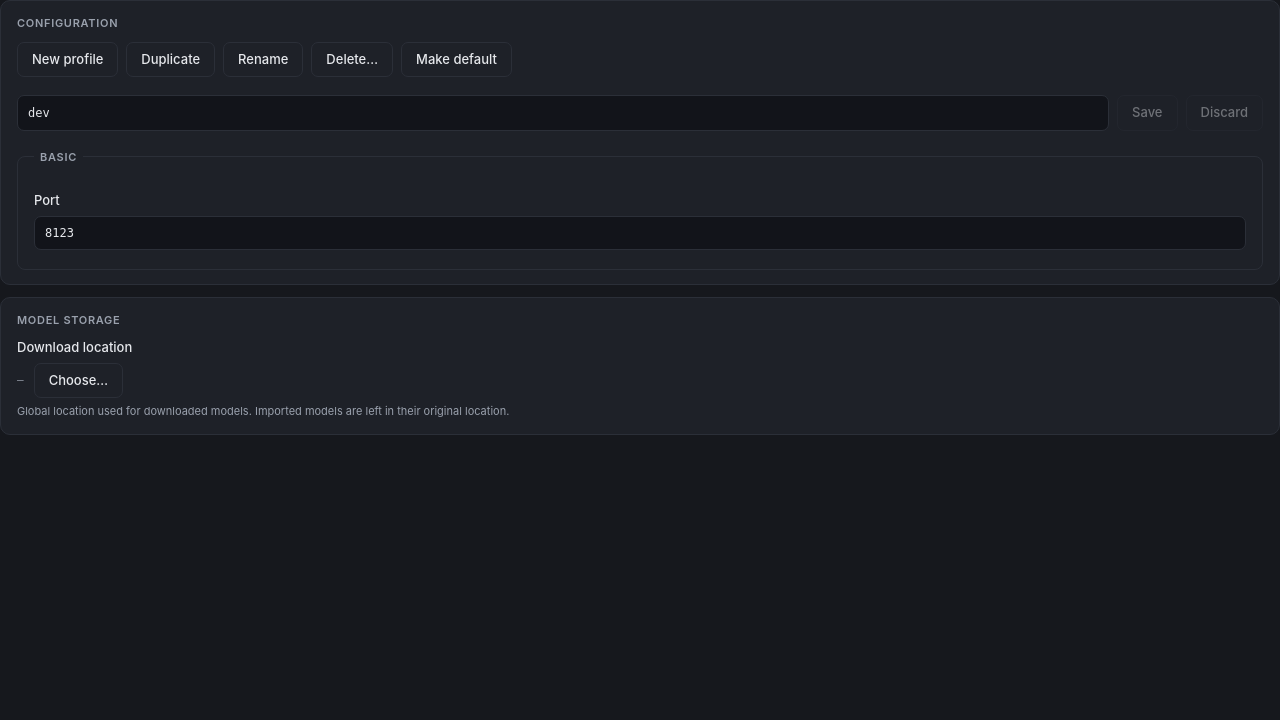
it: lifecycle actions › keeps the typed name and shows the server's words when a name is refused
Click the button "New profile". click: (68, 59)
box: [17,42,118,77]
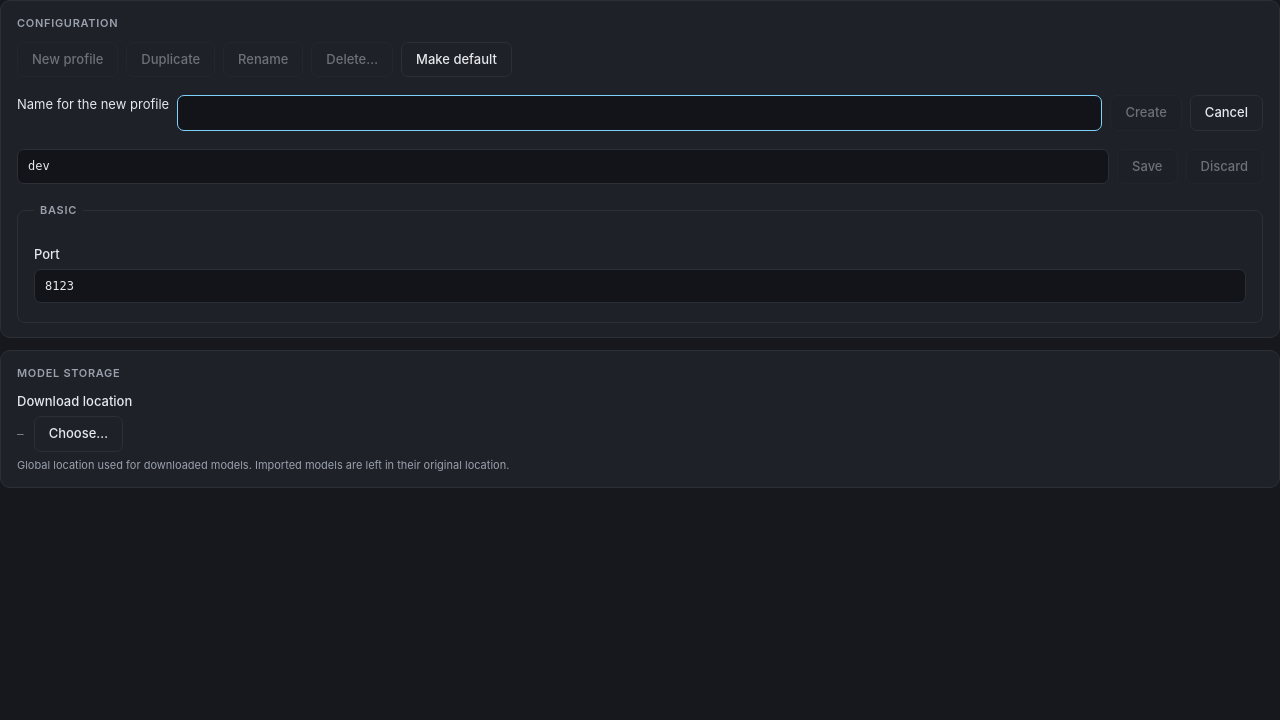
Type "dev" into the field labelled "Name for the new profile". click: (640, 113)
box: [177,95,1102,130]
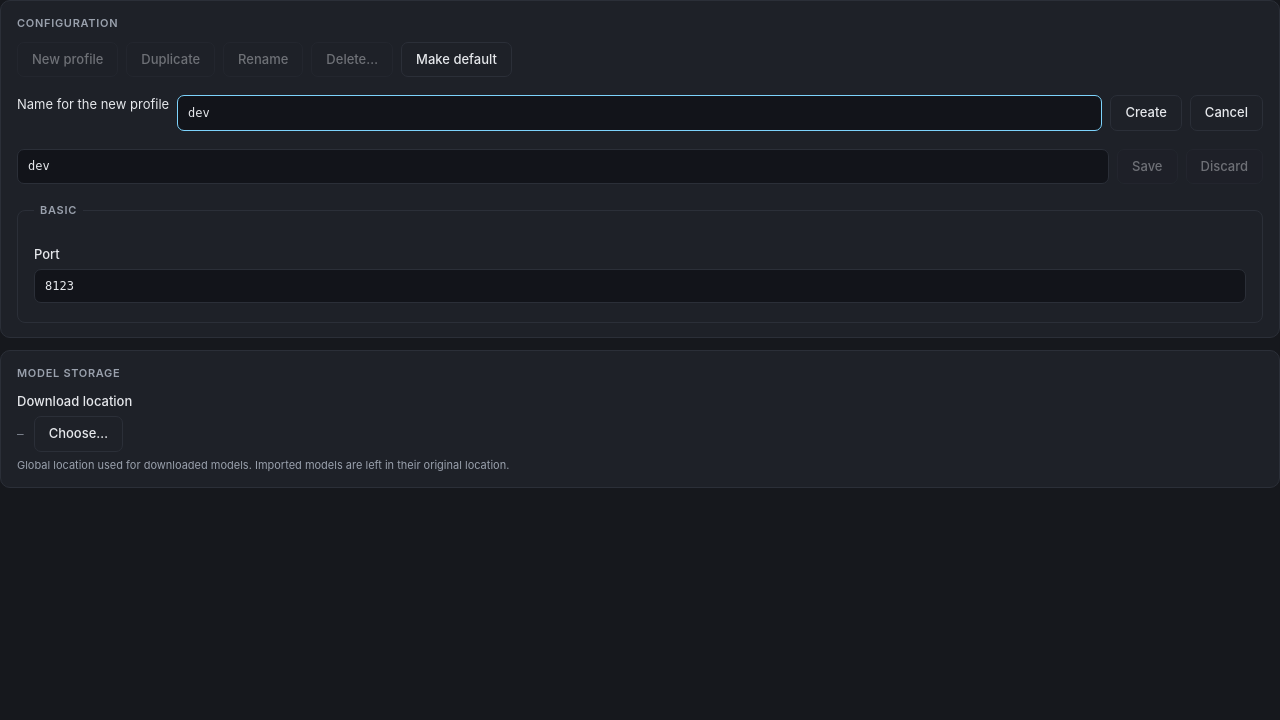
Click the button "Create". click: (1146, 113)
box: [1110,95,1182,130]
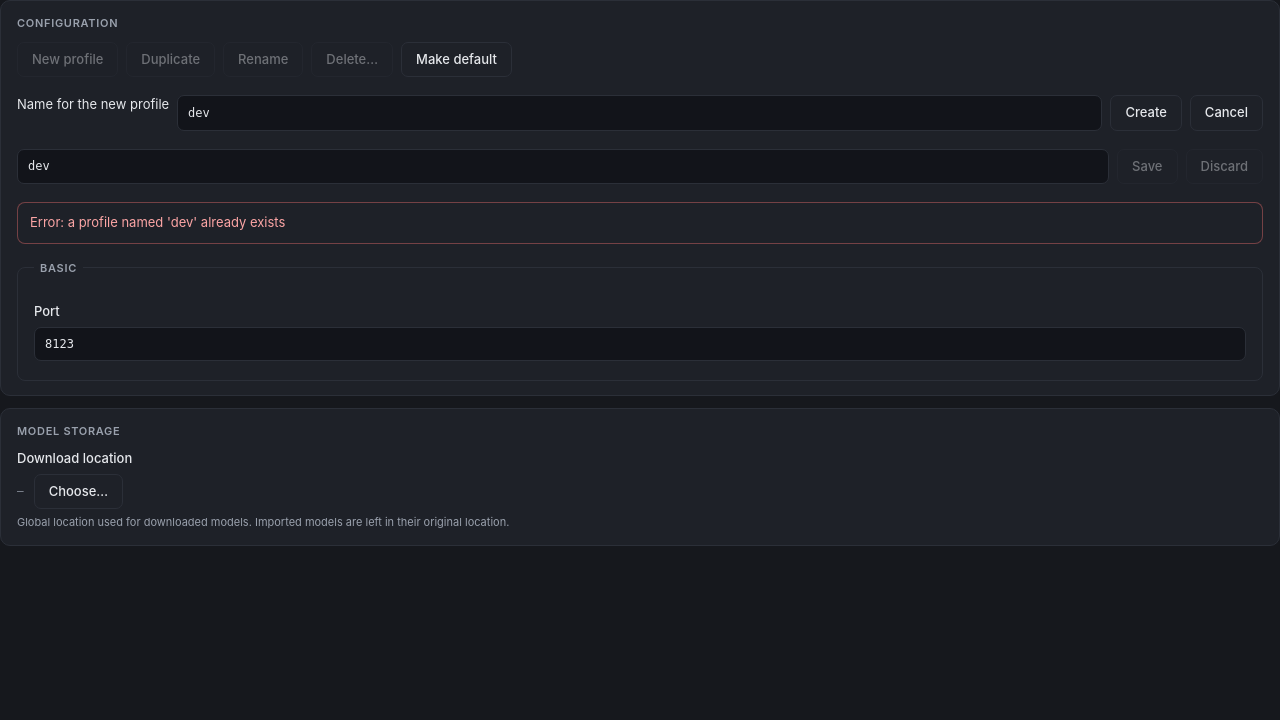
Expected: the text "Error: a profile named 'dev' already exists" is shown, [17,202,1263,244]
